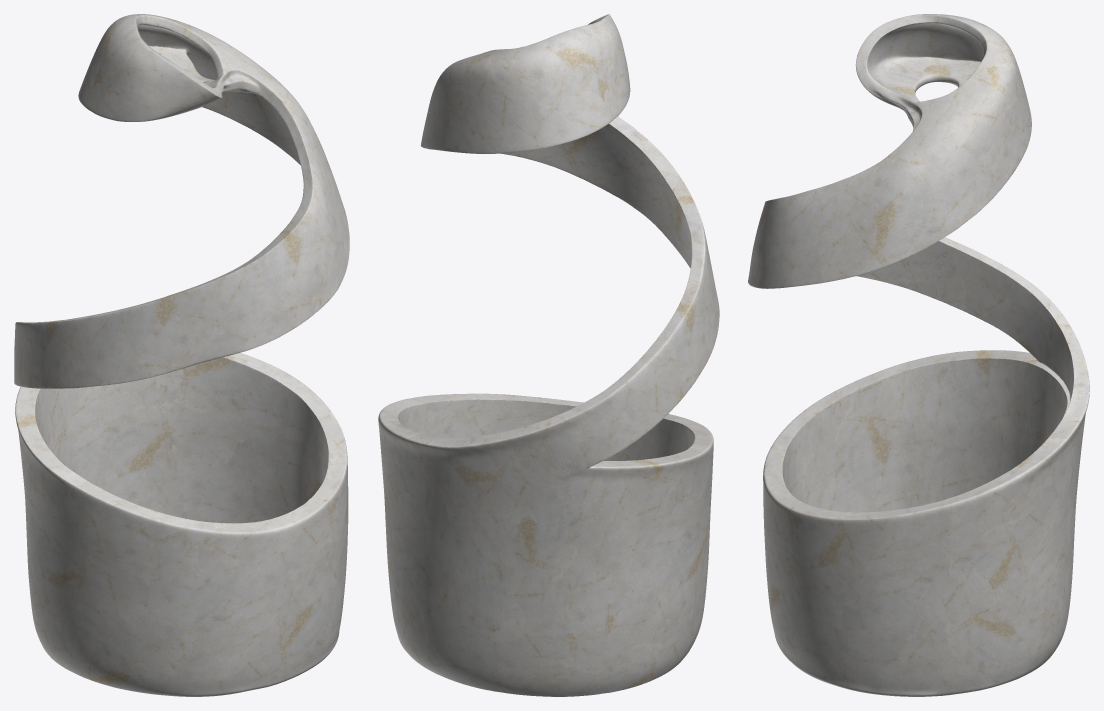
Rendered from vase.glb.
The picture shows the model from 3 angles, left to right: view 1: azimuth 30°, elevation 25°; view 2: azimuth 150°, elevation 25°; view 3: azimuth 270°, elevation 25°; orthographic projection. The views are drawn at different scales.
Parts seen in each view (by area): view 1: model_n3d; view 2: model_n3d; view 3: model_n3d.
Boxes of the visible parts, left/top/right/bottom form: model_n3d: left=14, top=14, right=349, bottom=696; model_n3d: left=378, top=14, right=719, bottom=696; model_n3d: left=748, top=14, right=1089, bottom=696.
Size of the model in its own units: 0.0843 by 0.17 by 0.0877.
Materials: 1 (1 with a texture image).
